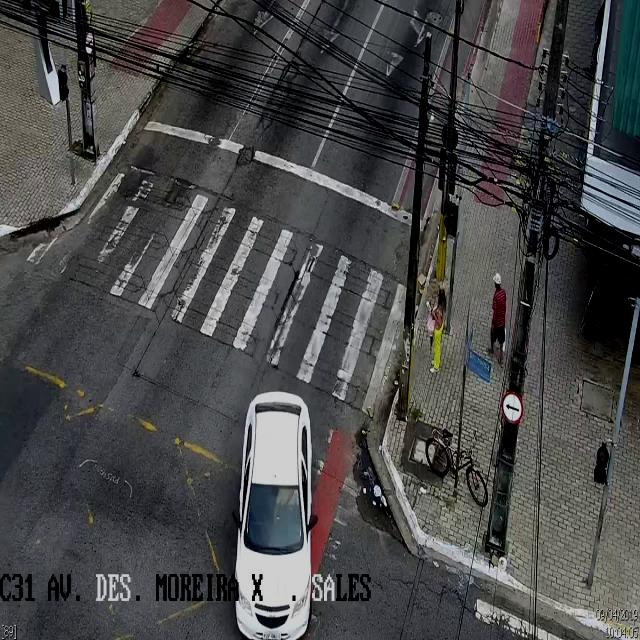Car: (230, 389, 318, 639)
